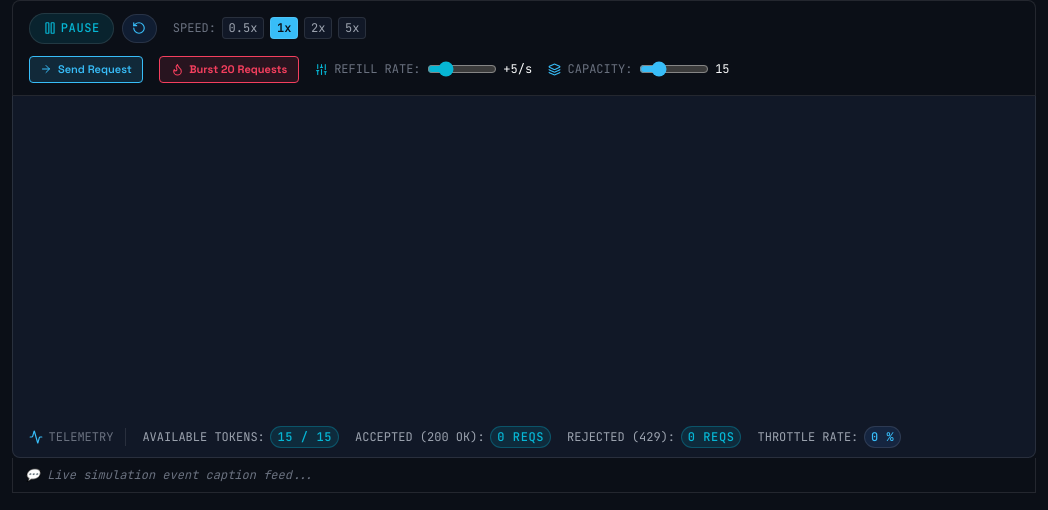
Scenario: TokenBucketVisualizer (Catalog Viz #9) › handles Send Request button click
Click the button "Send Request" at (86, 69), box [29,56,143,83]
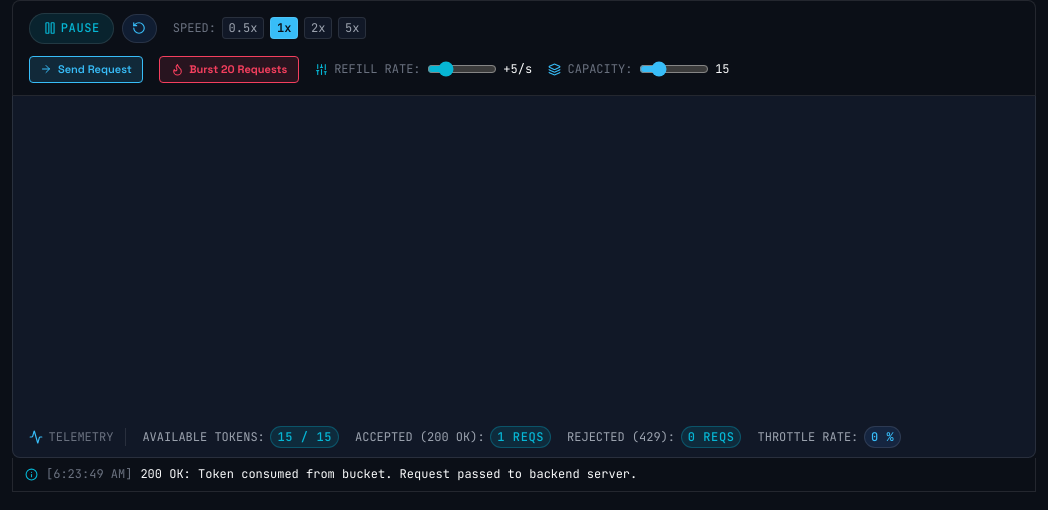
expect the text "200 OK: Token consumed from bucket" is shown: met, box [140,466,637,482]
